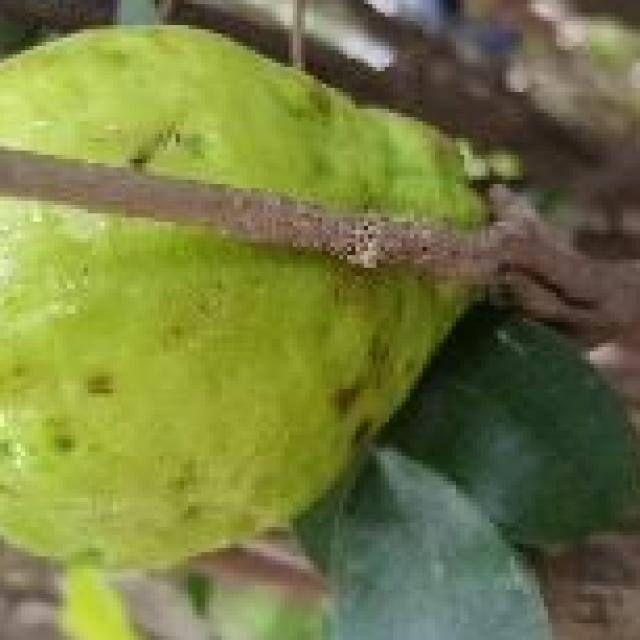Good_Guava 5-7 days: (0, 205, 464, 566), (0, 29, 481, 225)
